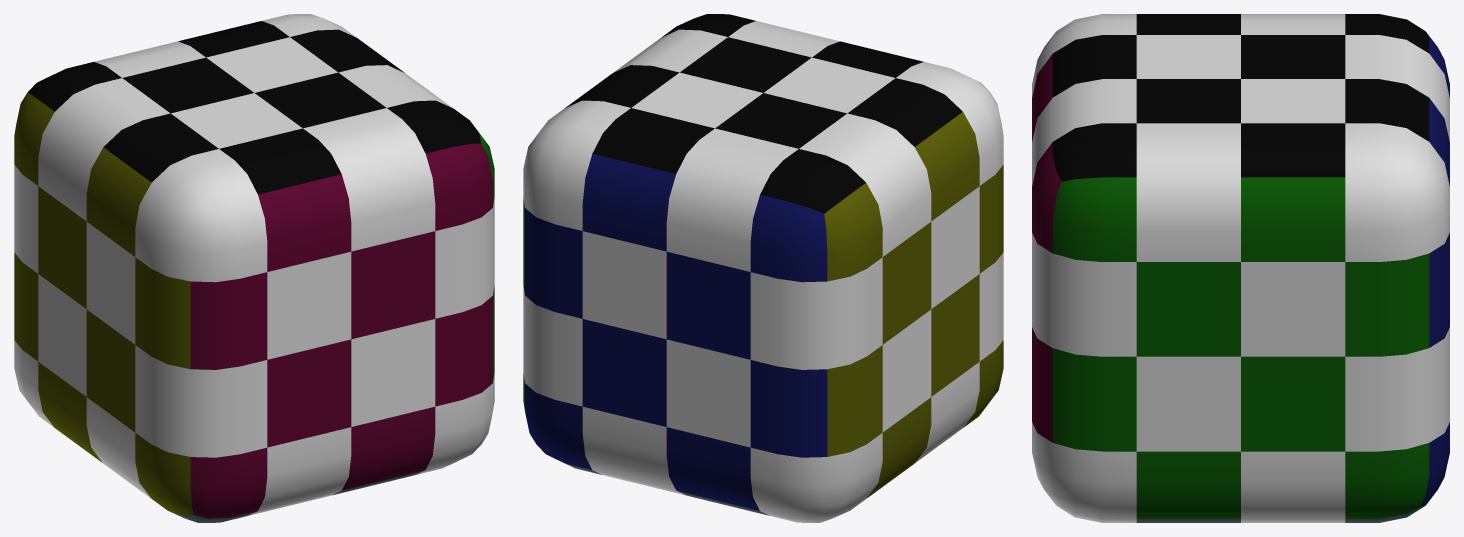
Rendered from color.glb.
3 renders of one model, left to right at view 1: azimuth 30°, elevation 25°; view 2: azimuth 150°, elevation 25°; view 3: azimuth 270°, elevation 25°, orthographic. The views are drawn at different scales.
Parts seen in each view (by area): view 1: teapot; view 2: teapot; view 3: teapot.
Part boxes in pixels (x1,y1,x2,y2): teapot: (14, 14, 494, 522); teapot: (523, 14, 1003, 522); teapot: (1032, 14, 1449, 522).
Size of the model in its own units: 4 by 4 by 4.
